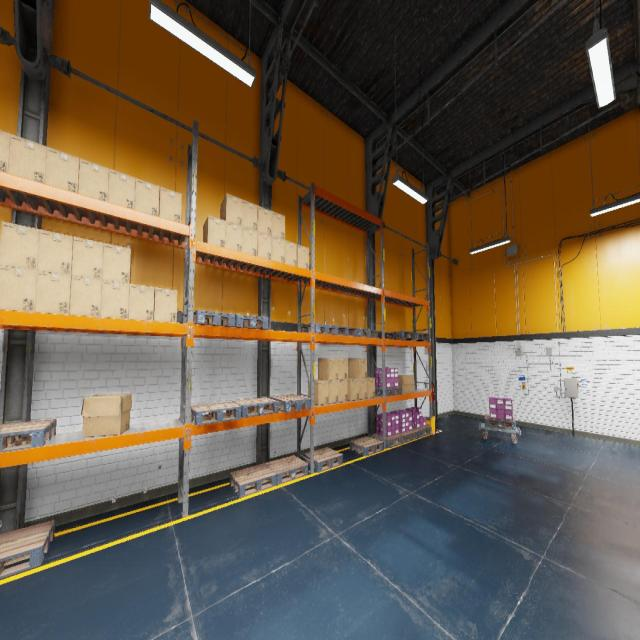box: (81, 393, 132, 438), (0, 221, 39, 270), (8, 134, 47, 183), (0, 266, 37, 312), (37, 230, 73, 276), (45, 146, 80, 192), (35, 271, 71, 314), (78, 158, 109, 202), (72, 237, 103, 279), (70, 276, 102, 316), (102, 243, 132, 283), (100, 280, 130, 319), (108, 168, 135, 209), (128, 283, 154, 321), (135, 178, 159, 216), (158, 186, 182, 222), (154, 288, 178, 322), (220, 193, 243, 226), (203, 215, 226, 247), (308, 380, 329, 405), (242, 200, 258, 231), (226, 222, 242, 252), (318, 358, 338, 380), (0, 129, 10, 172), (257, 232, 272, 260), (242, 227, 257, 255), (258, 206, 272, 235), (348, 358, 367, 378), (272, 211, 285, 239), (272, 236, 284, 263), (285, 240, 297, 266), (297, 244, 309, 269), (397, 375, 414, 392), (354, 378, 367, 399), (348, 378, 359, 401), (338, 358, 348, 380), (329, 381, 338, 404), (339, 380, 347, 402), (367, 377, 375, 398)
pallets: (0, 520, 55, 579), (0, 419, 56, 452), (230, 463, 276, 498), (265, 455, 308, 485), (191, 401, 241, 425), (304, 447, 343, 472), (232, 398, 278, 417), (270, 394, 311, 412), (349, 436, 384, 456), (193, 310, 235, 326), (234, 314, 268, 329), (372, 434, 404, 448), (485, 416, 516, 430), (301, 324, 337, 334), (322, 326, 358, 336), (387, 330, 416, 340), (398, 429, 419, 442), (352, 328, 378, 338), (375, 387, 402, 396), (413, 426, 431, 438), (405, 332, 428, 341)
